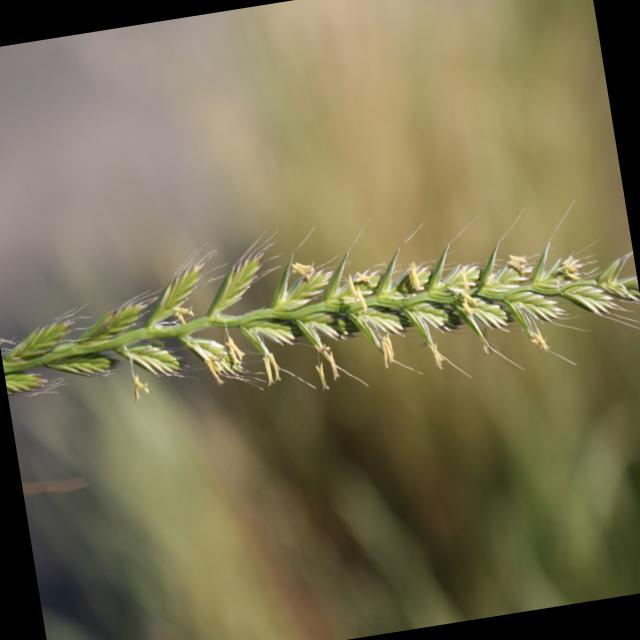Lolium: (0, 171, 640, 457)
